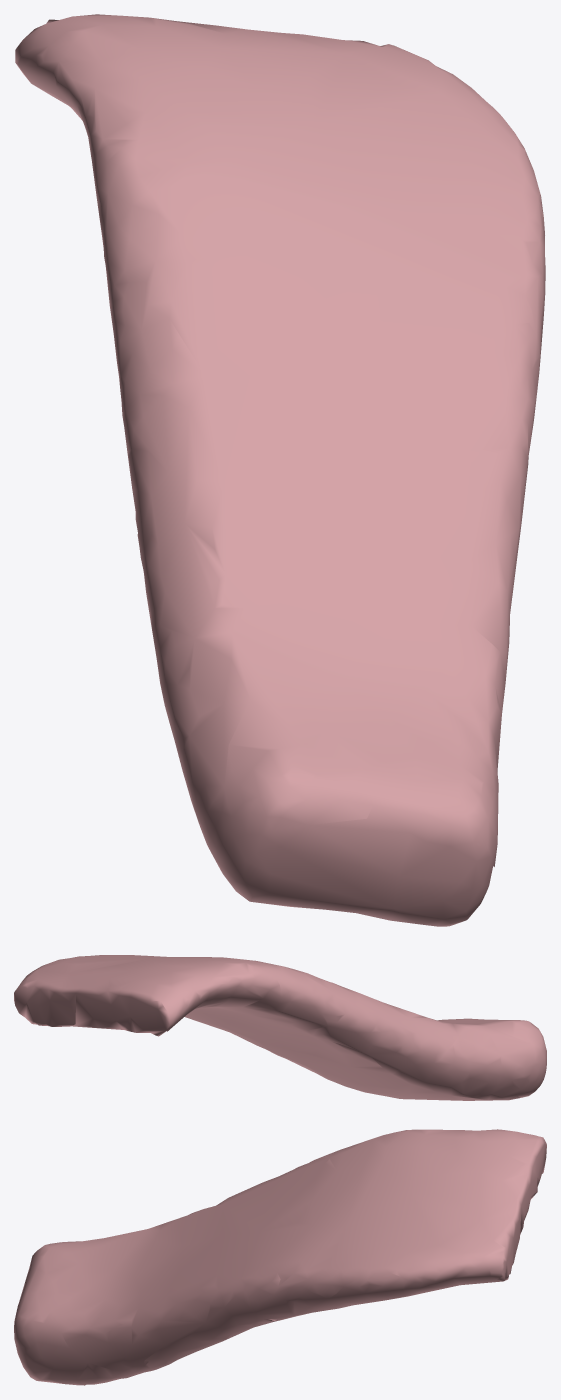
The model's file is fma56775_mm1022.glb.
3 views of the same model, one above another, from view 1: azimuth 30°, elevation 25°; view 2: azimuth 150°, elevation 25°; view 3: azimuth 270°, elevation 25° (orthographic). The views are drawn at different scales.
Parts seen in each view (by area): view 1: FMA56775_MM1022; view 2: FMA56775_MM1022; view 3: FMA56775_MM1022.
Boxes of the visible parts, x1=… form: FMA56775_MM1022: x1=15, y1=14, x2=545, y2=926; FMA56775_MM1022: x1=14, y1=955, x2=546, y2=1100; FMA56775_MM1022: x1=14, y1=1129, x2=546, y2=1385.
Bounding box in the file's own units: 0.00189 × 0.00149 × 0.00265.
